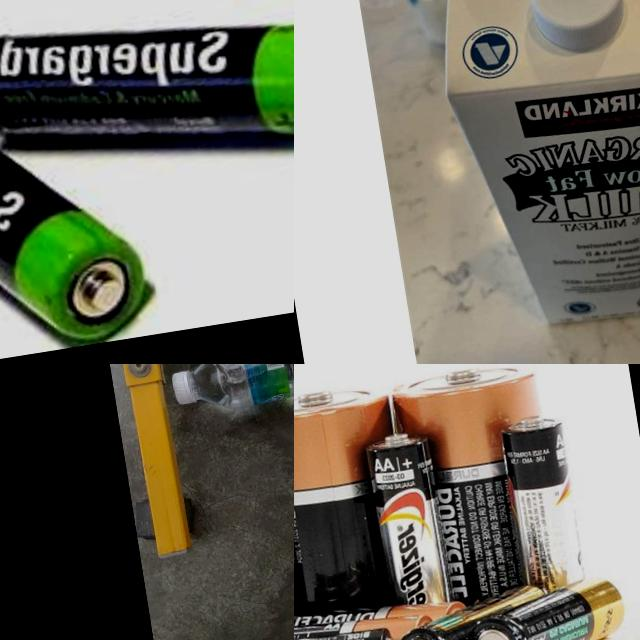bateria: (0, 0, 294, 188), (0, 51, 157, 364), (389, 364, 570, 604), (294, 382, 419, 627), (360, 430, 459, 616), (497, 412, 586, 598), (459, 572, 631, 640), (388, 585, 557, 640)
caixinha: (418, 0, 640, 346)
garrafa plástica: (188, 364, 294, 421)
tampa plástica: (523, 0, 631, 58), (168, 368, 197, 407)
